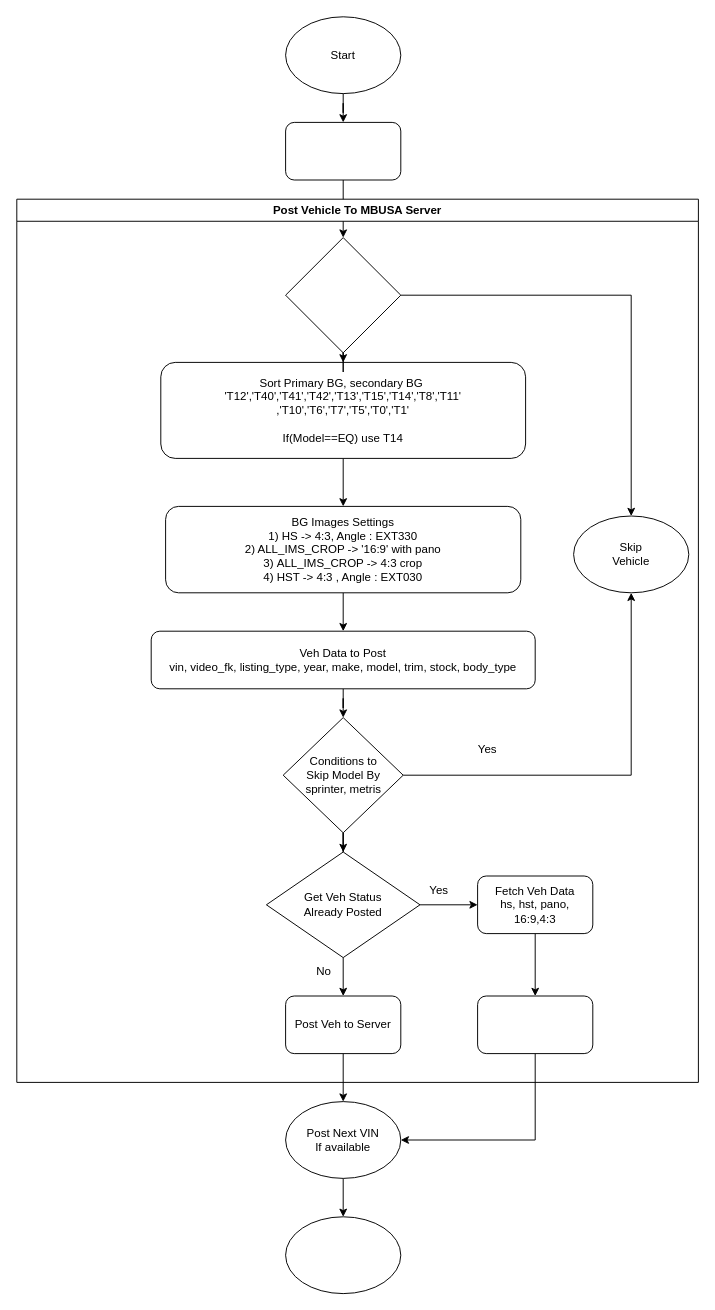
Some shapes in this 715 by 1310 pixel diagram are drawn without their labels. Each missing label, with the box of its shape:
Fetch Latest Job ID Import Job Vehicles Remote ID =0: (285, 121, 401, 180)
Get Vehicle Available MBUSA Backgrounds: (285, 237, 401, 353)
Process Video To Store All Images: (477, 995, 593, 1054)
Stop: (285, 1216, 401, 1294)
